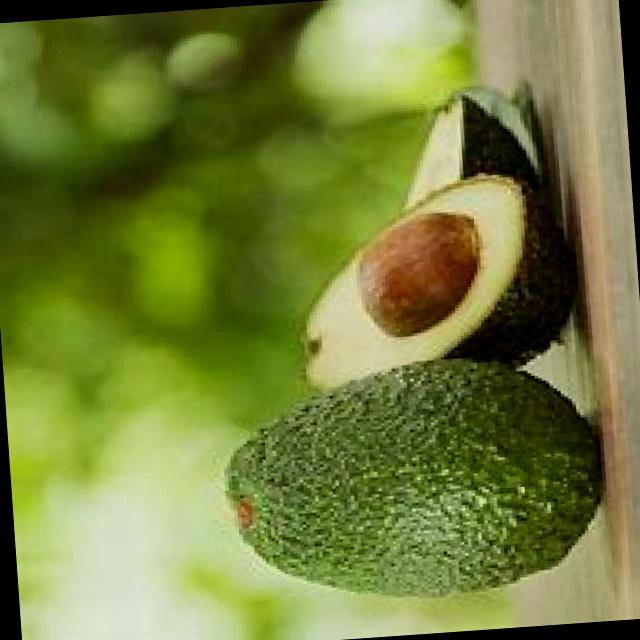avocado: (213, 348, 616, 608), (279, 163, 584, 399)
